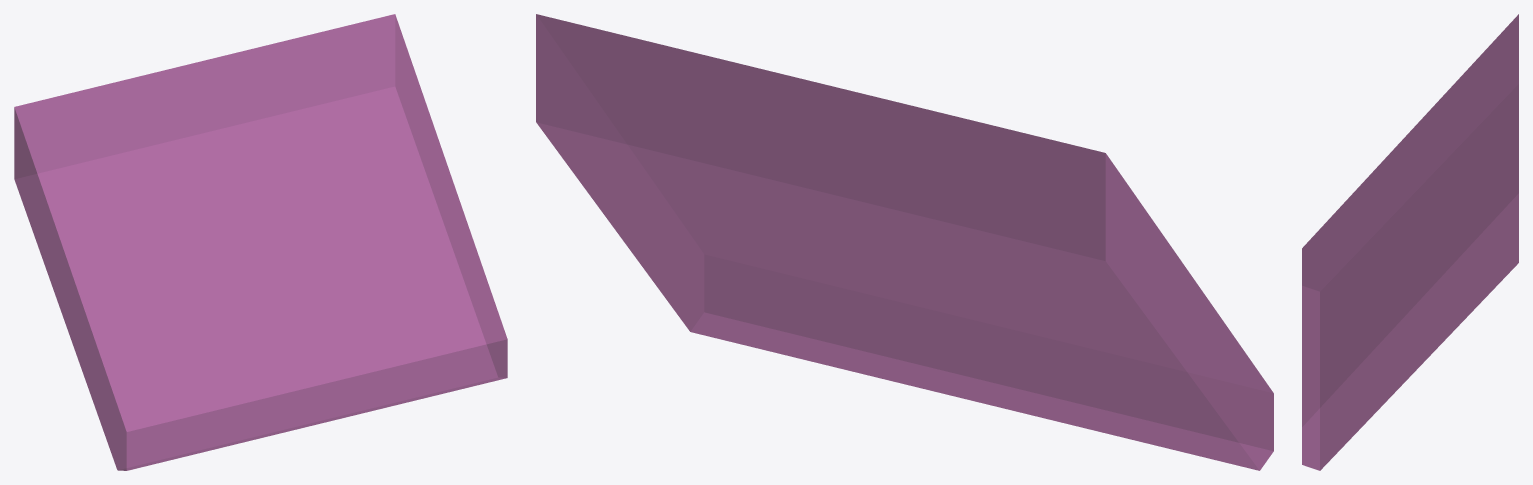
File: SM_Bld_Base_Roof_Half_01_Collision.fbx
3 renders of one model, left to right at view 1: azimuth 30°, elevation 25°; view 2: azimuth 150°, elevation 25°; view 3: azimuth 270°, elevation 25°, orthographic. The views are drawn at different scales.
Visible parts, largest first — view 1: SM_Bld_Base_Roof_Half_01_Collision; view 2: SM_Bld_Base_Roof_Half_01_Collision; view 3: SM_Bld_Base_Roof_Half_01_Collision.
Part boxes in pixels (box(x1,y1,x2,y2)): SM_Bld_Base_Roof_Half_01_Collision: box(14, 14, 507, 470); SM_Bld_Base_Roof_Half_01_Collision: box(536, 14, 1273, 470); SM_Bld_Base_Roof_Half_01_Collision: box(1302, 14, 1518, 470).
Size of the model in its own units: 252 by 182 by 129.
